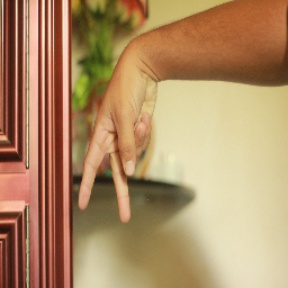Y: (75, 70, 159, 222)
